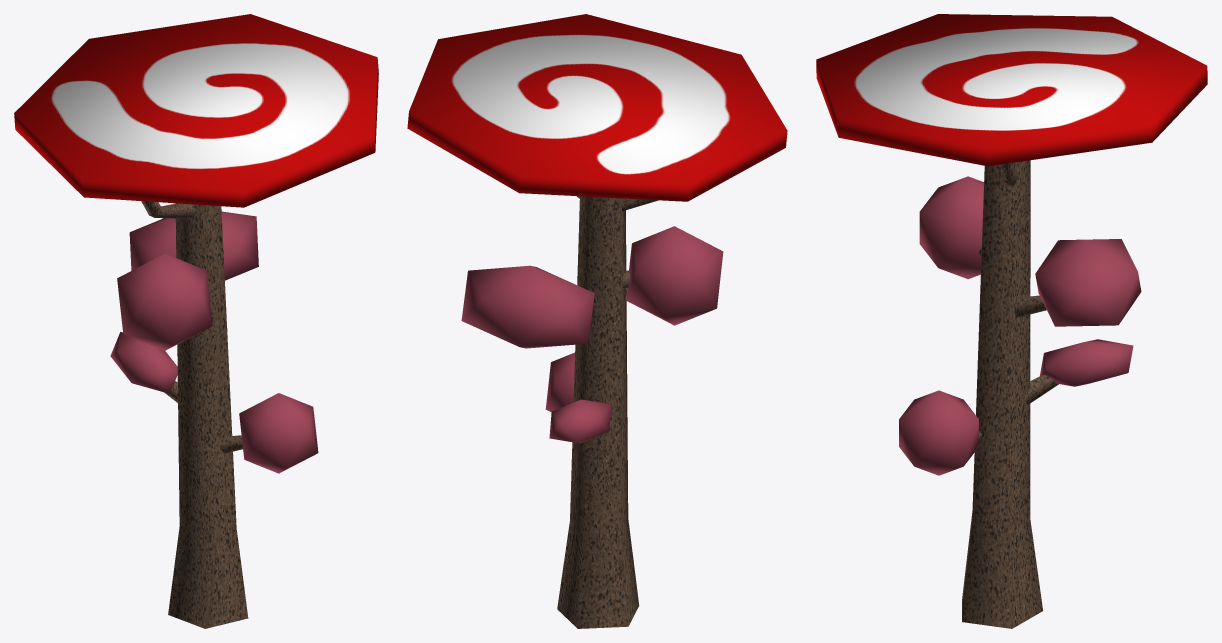
Rendered from tree8LP.obj.
The picture shows the model from 3 angles, left to right: view 1: azimuth 30°, elevation 25°; view 2: azimuth 150°, elevation 25°; view 3: azimuth 270°, elevation 25°; orthographic projection. The views are drawn at different scales.
Parts seen in each view (by area): view 1: Cylinder.001_Cylinder.006, Cylinder, Icosphere.001_Icosphere.012; view 2: Cylinder.001_Cylinder.006, Cylinder, Icosphere.001_Icosphere.012; view 3: Cylinder.001_Cylinder.006, Cylinder, Icosphere.001_Icosphere.012.
Boxes of the visible parts, x1,y1,x2,y2 form: Cylinder.001_Cylinder.006: (14,14,378,207); Cylinder: (141,201,248,628); Icosphere.001_Icosphere.012: (110,211,318,473); Cylinder.001_Cylinder.006: (407,14,787,201); Cylinder: (557,196,658,628); Icosphere.001_Icosphere.012: (461,226,723,443); Cylinder.001_Cylinder.006: (816,14,1207,166); Cylinder: (962,160,1058,628); Icosphere.001_Icosphere.012: (899,176,1141,475).
Size of the model in its own units: 2.36 by 3.66 by 2.37.
3 materials, 3 textured.
